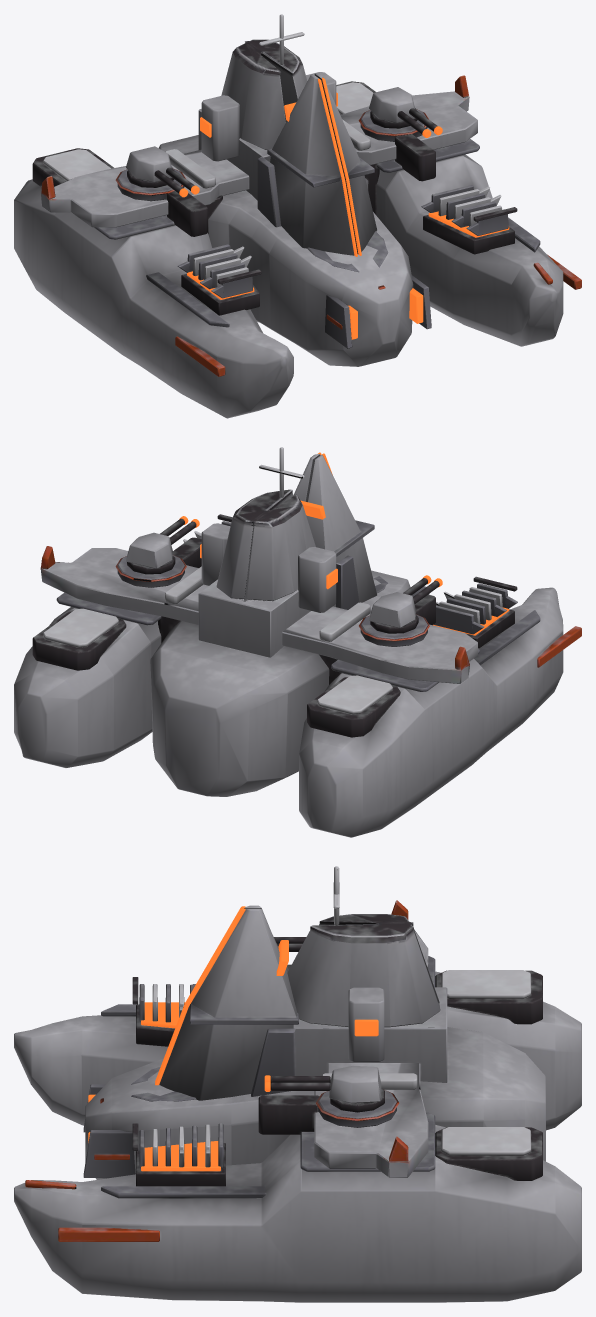
File: helion-ark-v5-remodel.glb
The picture shows the model from 3 angles, top to bottom: view 1: azimuth 30°, elevation 25°; view 2: azimuth 150°, elevation 25°; view 3: azimuth 270°, elevation 25°; orthographic projection. The views are drawn at different scales.
Visible parts, largest first — view 1: ark_hull, ark_bridge_shutter_a, ark_radiator_right, ark_radiator_left, ark_bridge_shutter_b, ark_turret_left, ark_turret_right, ark_bay_left_door; view 2: ark_hull, ark_bridge_shutter_a, ark_radiator_left, ark_turret_left, ark_turret_right; view 3: ark_hull, ark_bridge_shutter_b, ark_radiator_right, ark_turret_right, ark_radiator_left, ark_bay_right_door.
Part boxes in pixels (bbox=[...]): ark_hull: bbox=[14, 14, 581, 418]; ark_bridge_shutter_a: bbox=[267, 74, 357, 256]; ark_radiator_right: bbox=[423, 185, 517, 254]; ark_radiator_left: bbox=[181, 244, 261, 315]; ark_bridge_shutter_b: bbox=[314, 73, 376, 255]; ark_turret_left: bbox=[126, 146, 199, 197]; ark_turret_right: bbox=[369, 87, 442, 137]; ark_bay_left_door: bbox=[325, 295, 352, 348]; ark_hull: bbox=[14, 447, 581, 837]; ark_bridge_shutter_a: bbox=[306, 453, 376, 602]; ark_radiator_left: bbox=[433, 576, 517, 648]; ark_turret_left: bbox=[369, 575, 442, 633]; ark_turret_right: bbox=[126, 516, 199, 574]; ark_hull: bbox=[14, 866, 581, 1302]; ark_bridge_shutter_b: bbox=[155, 908, 298, 1100]; ark_radiator_right: bbox=[132, 1123, 225, 1186]; ark_turret_right: bbox=[264, 1066, 384, 1112]; ark_radiator_left: bbox=[132, 977, 195, 1046]; ark_bay_right_door: bbox=[83, 1130, 135, 1177].
Size of the model in its own units: 9.52 by 6.25 by 9.49.
2 materials, 1 textured.
